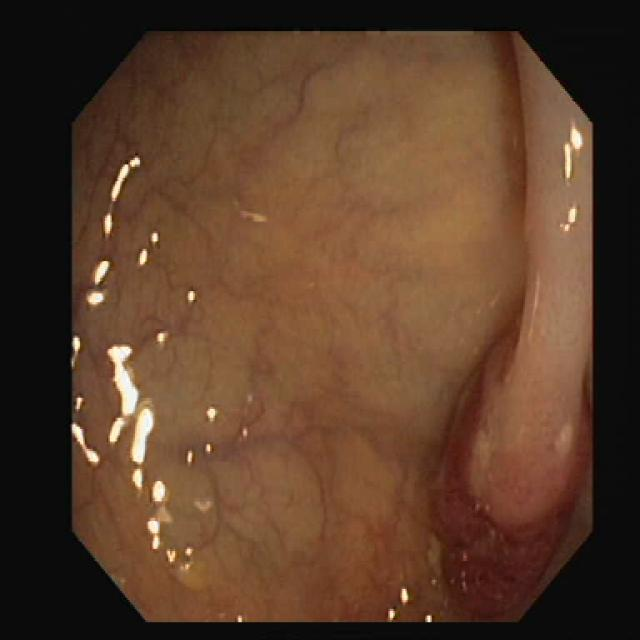tumor: (433, 280, 590, 604)
